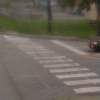crosswalk: (5, 36, 100, 92)
